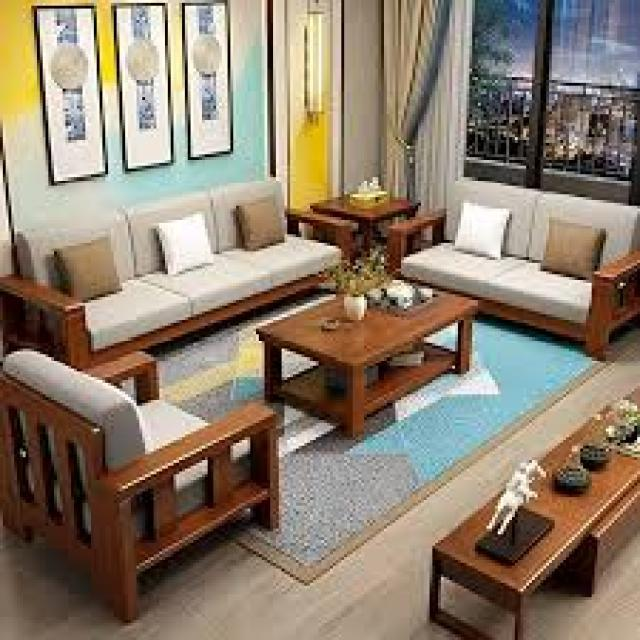sofa: (7, 323, 300, 634), (0, 174, 344, 389), (384, 174, 637, 360)
